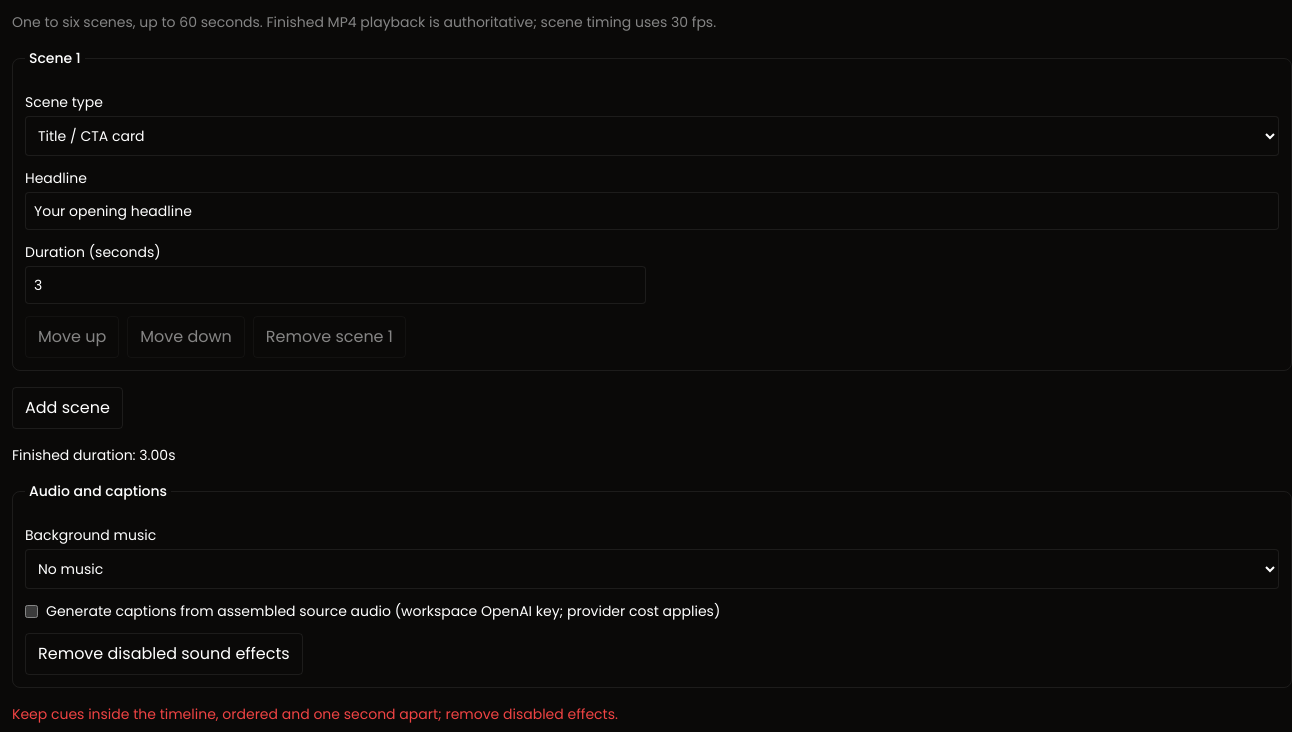
Test: Timeline editor acceptance › lets a saved timeline recover when sound effects are rolled back
Click the button "Remove disabled sound effects". click: (164, 654)
box: [25,633,303,675]
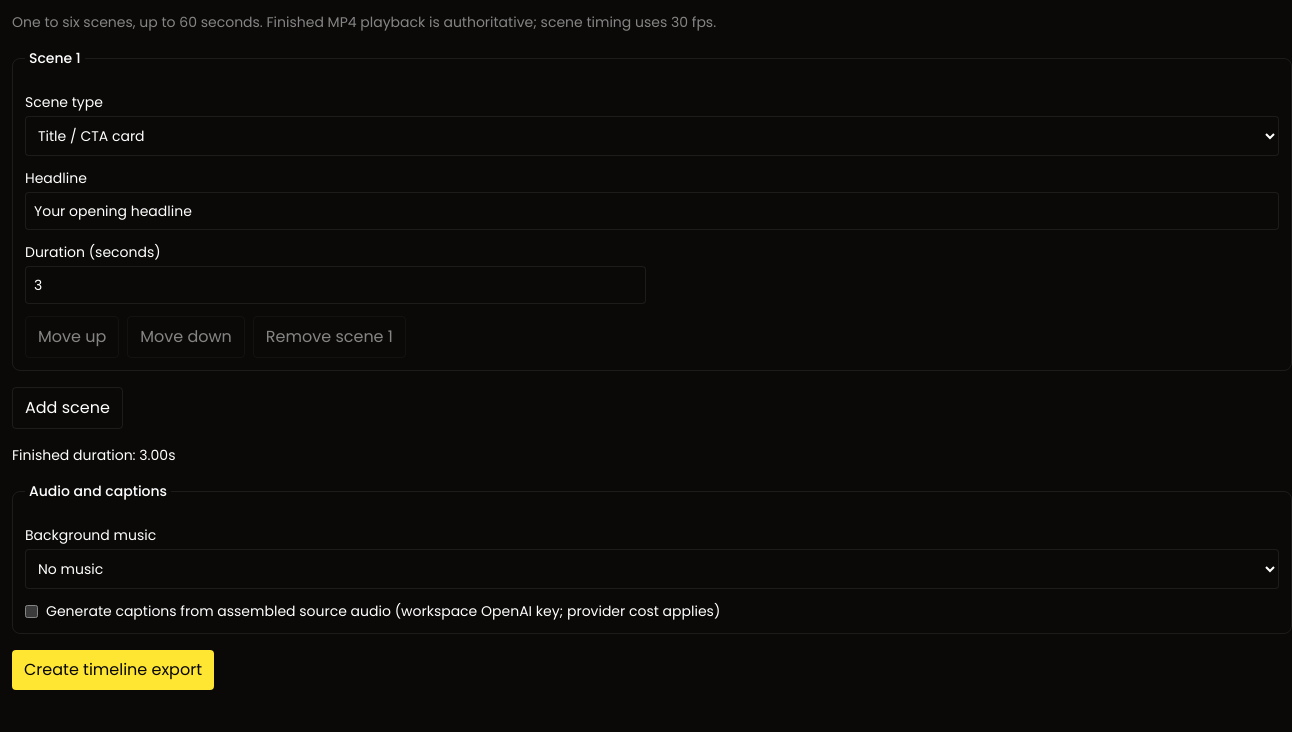
Check: the button "Create timeline export" is enabled, box [12,650,214,690]
